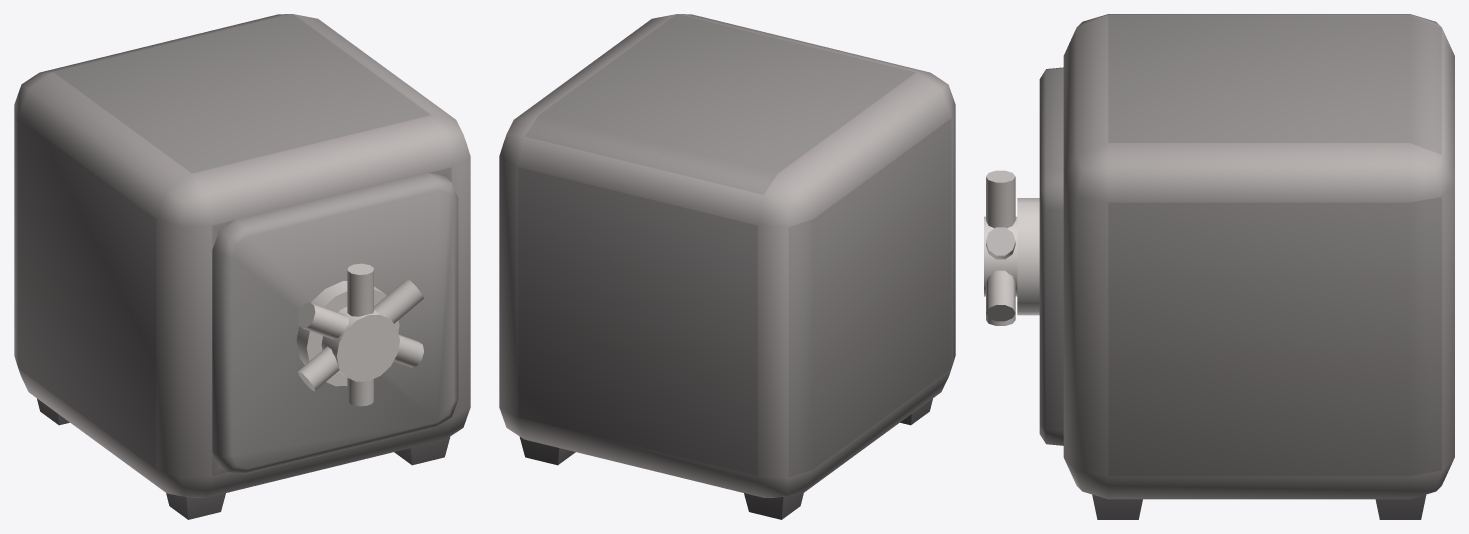
The model's file is Safe_01.fbx.
3 renders of one model, left to right at view 1: azimuth 30°, elevation 25°; view 2: azimuth 150°, elevation 25°; view 3: azimuth 270°, elevation 25°, orthographic. The views are drawn at different scales.
Visible parts, largest first — view 1: Safe_01, Safe_02; view 2: Safe_01; view 3: Safe_01, Safe_02.
Boxes of the visible parts, left/top/right/bottom form: Safe_01: left=14, top=14, right=470, bottom=519; Safe_02: left=212, top=173, right=458, bottom=474; Safe_01: left=499, top=14, right=955, bottom=519; Safe_01: left=1063, top=14, right=1454, bottom=519; Safe_02: left=984, top=67, right=1063, bottom=445.
Size of the model in its own units: 1 by 1.05 by 1.2.
